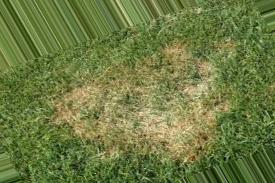patch: (106, 79, 155, 114), (157, 71, 192, 110), (121, 123, 166, 151), (67, 91, 100, 122), (178, 119, 203, 145), (214, 99, 230, 121), (161, 48, 189, 60), (210, 41, 228, 56), (203, 67, 217, 85)
